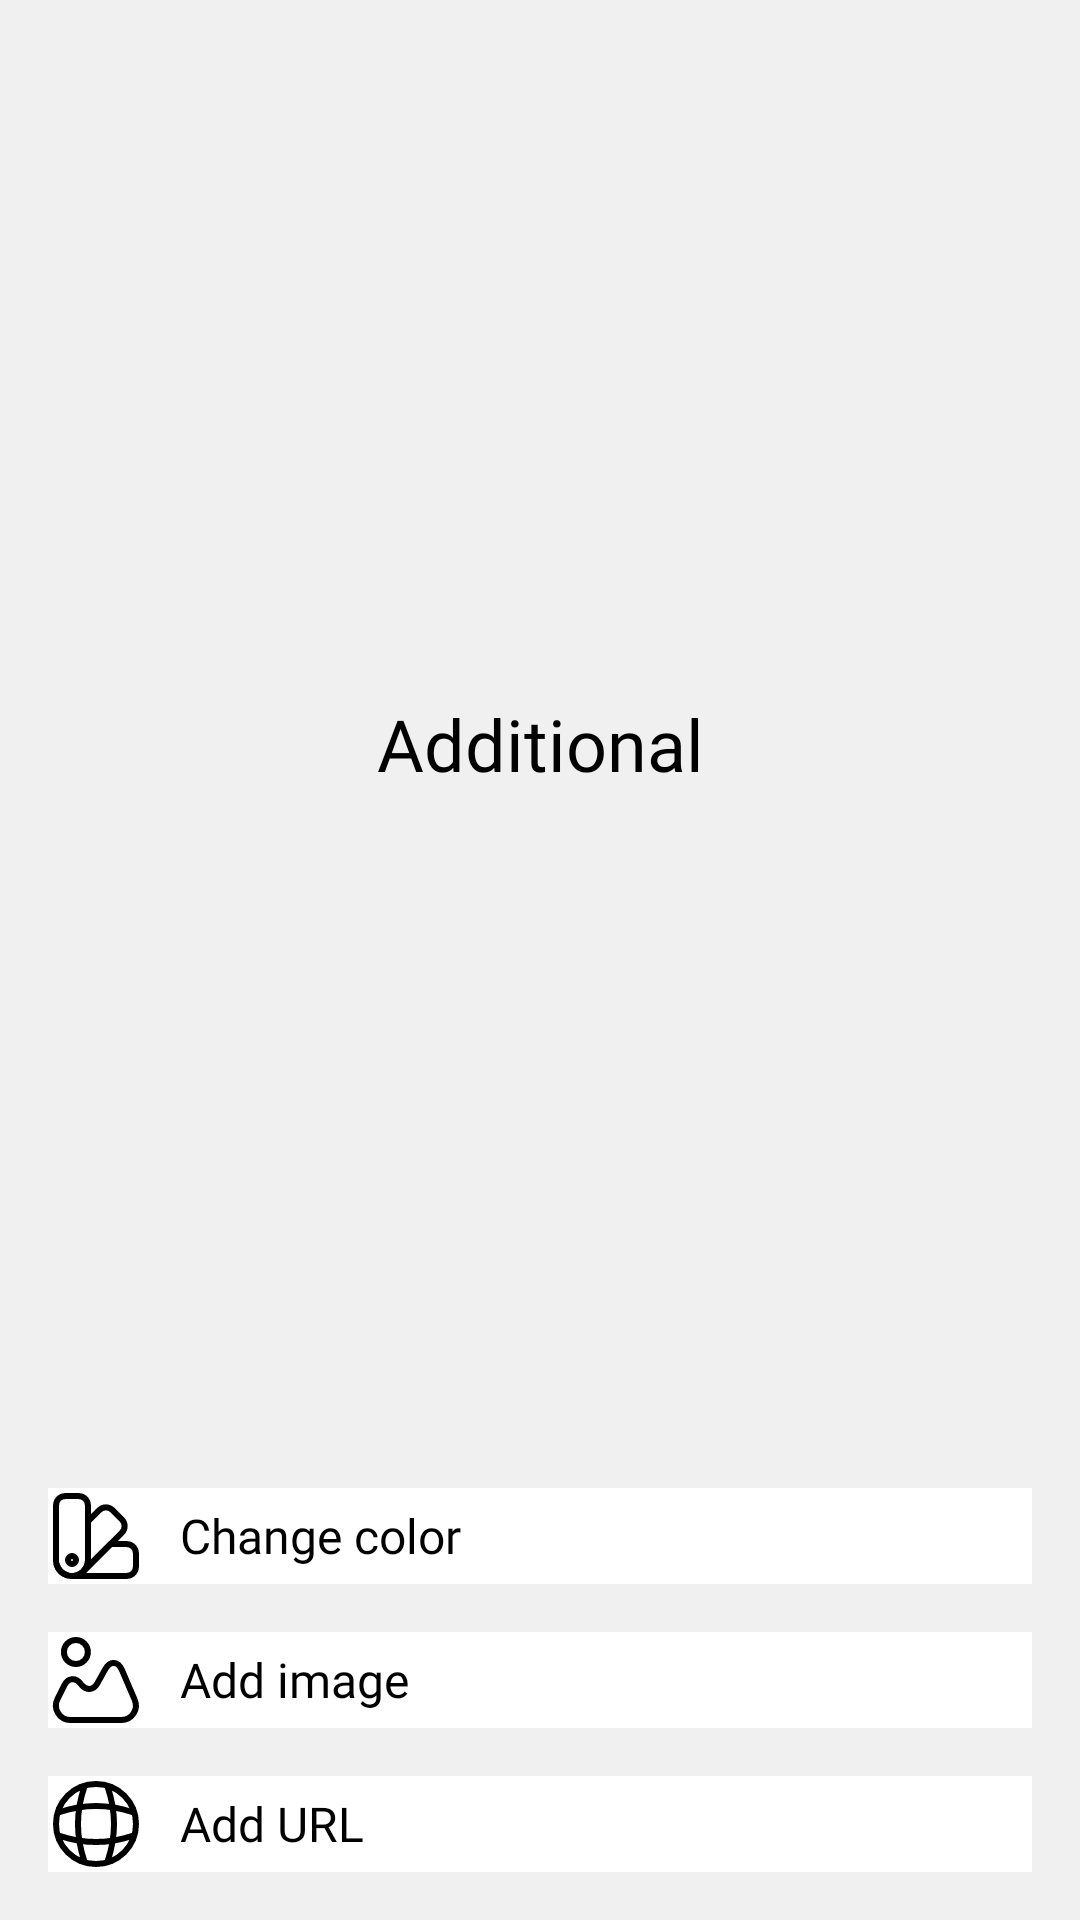

Point at icon controls on the screen. Image size 1080 × 1920, points as (x=x, y=y).
palette: (x=96, y=1536)
web link: (x=96, y=1824)
